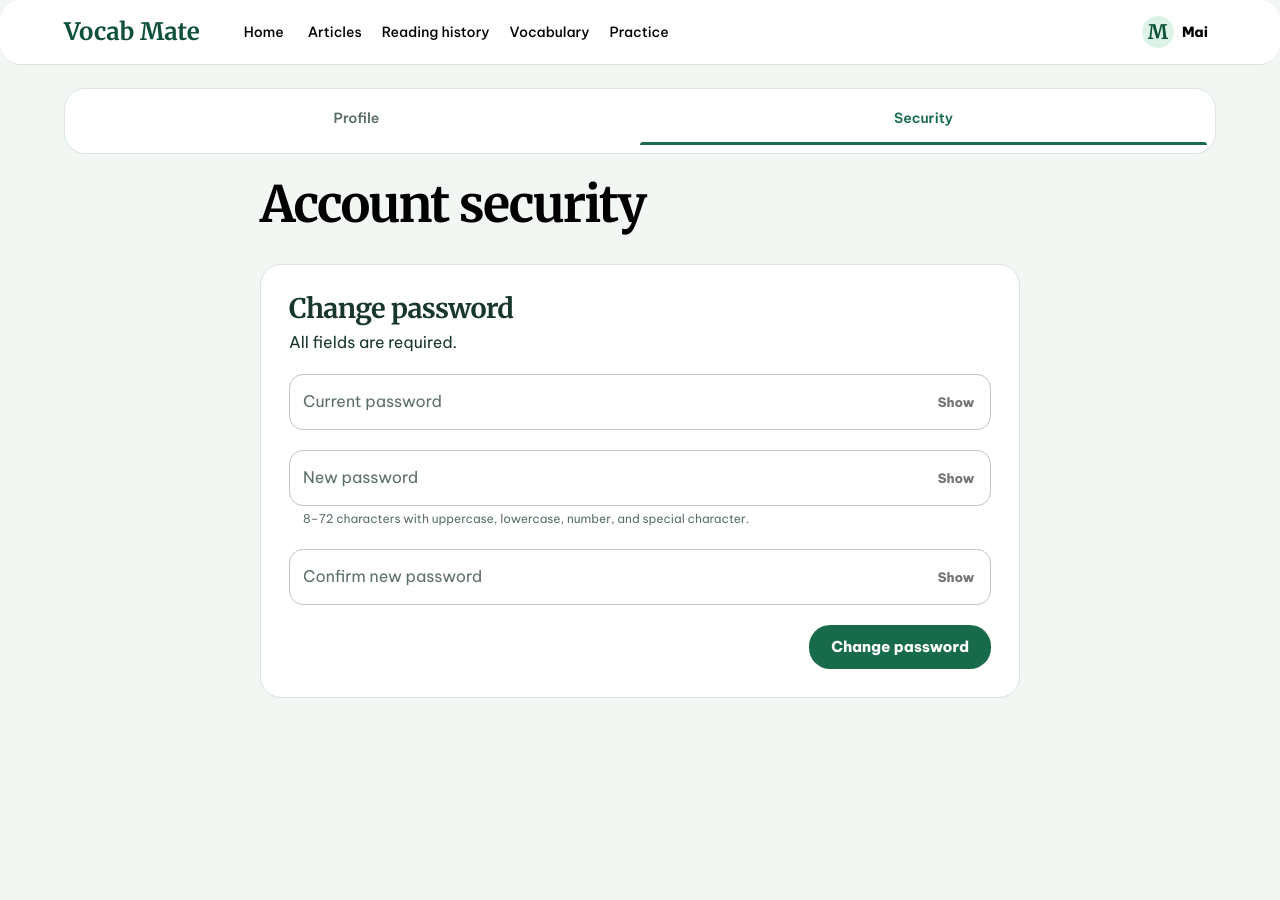
Scenario: Security settings UI › keeps mismatched confirmation client-side and exposes accessible visibility controls
Type "OldPass@123" into the password field labelled "Current password" at x=605, y=402, box [289,374,921,430]
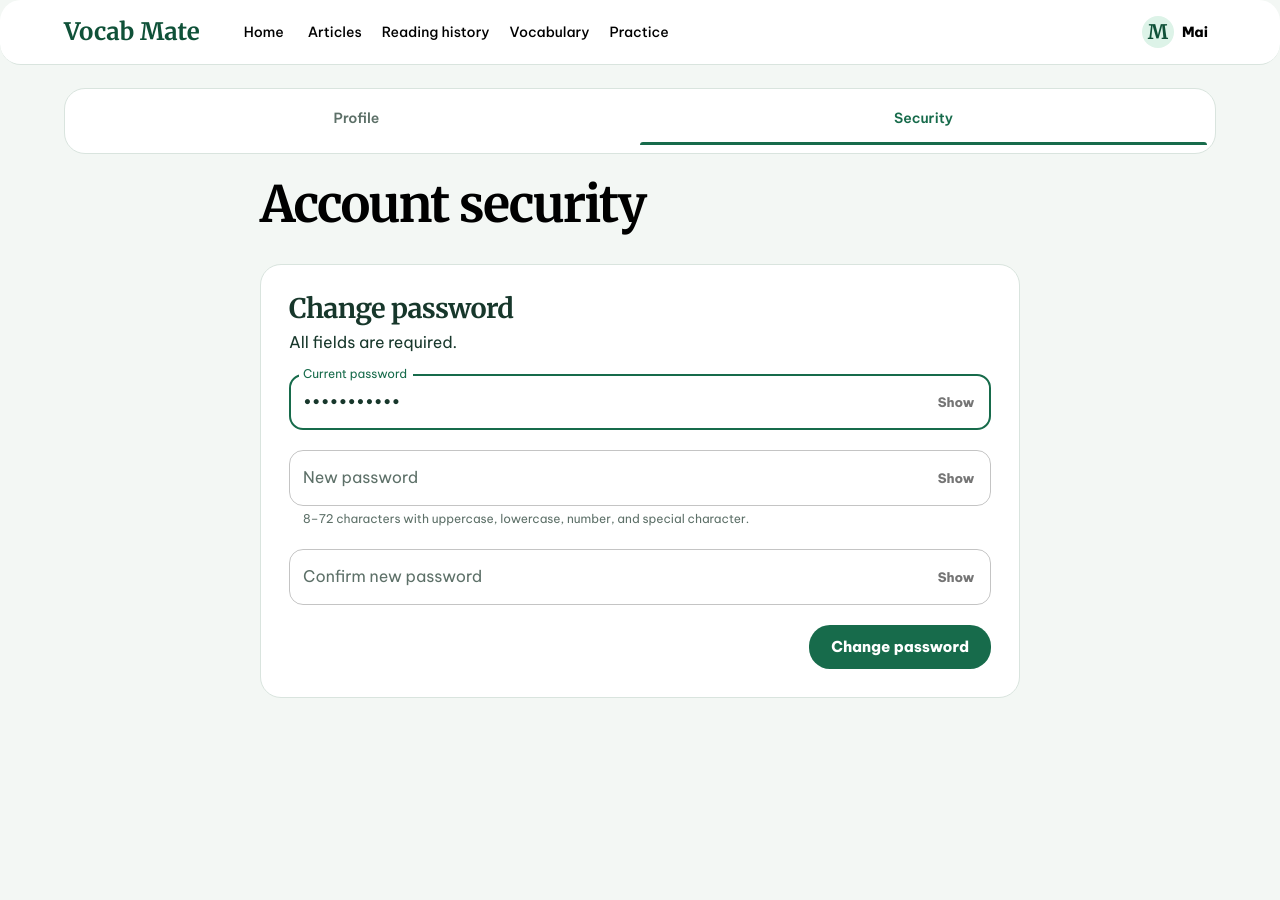
Type "NewPass@456" into the password field labelled "New password" at x=605, y=478, box [289,450,921,506]
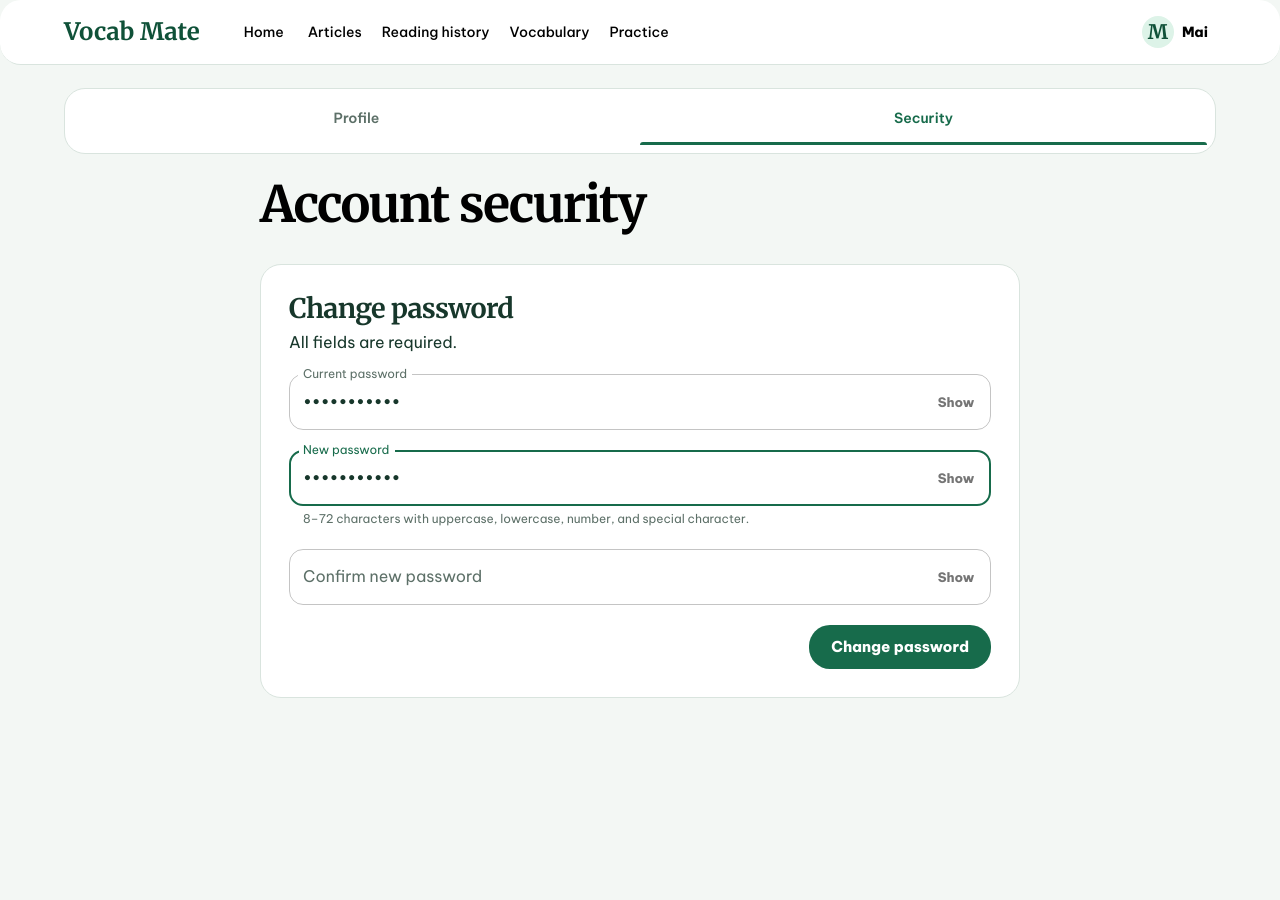
Type "DifferentPass@789" into the password field labelled "Confirm new password" at x=605, y=577, box [289,549,921,605]
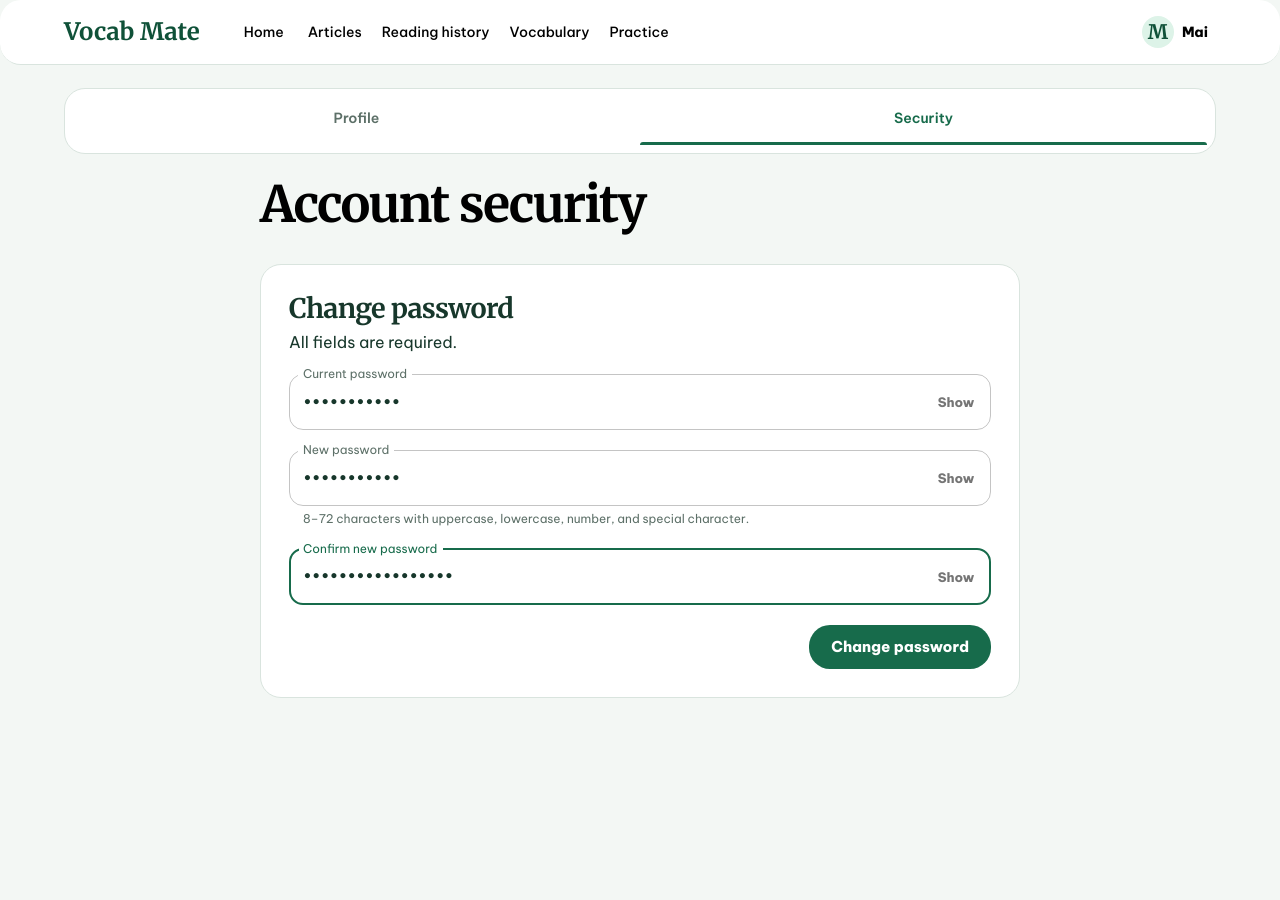
Check: the button with aria-label "Show current password" is shown, box [929,384,983,420]
Click the button "Change password" at x=900, y=647, box [809,625,991,669]
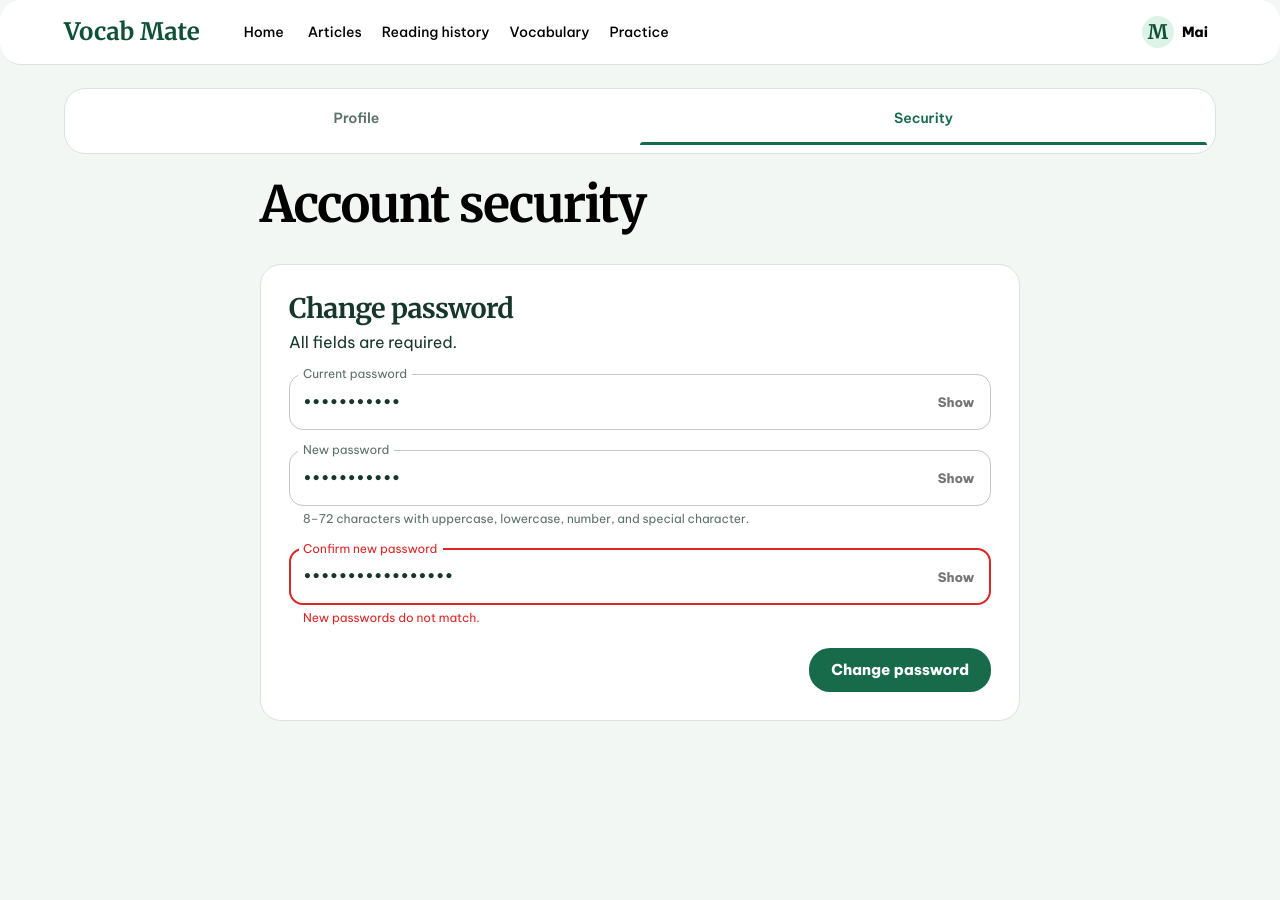
Check: the text "New passwords do not match." is shown, box [303,610,480,625]
